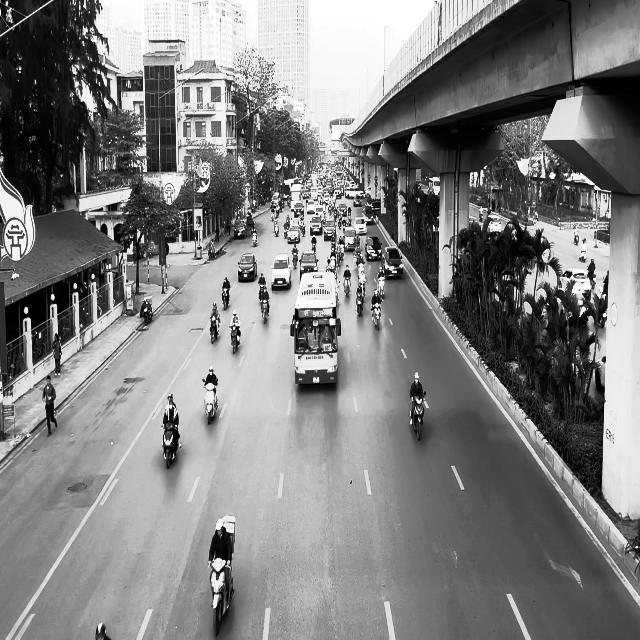bus: (290, 270, 341, 386)
car: (559, 268, 593, 300), (270, 253, 292, 290), (381, 246, 403, 278), (237, 253, 257, 282), (299, 250, 318, 280), (365, 235, 382, 260), (486, 216, 502, 237)
motorbike: (208, 557, 234, 635), (161, 422, 181, 468), (409, 390, 426, 440), (202, 378, 218, 424), (209, 314, 220, 344), (230, 323, 240, 354), (260, 293, 270, 323), (371, 301, 381, 330), (142, 298, 152, 324), (355, 289, 364, 317), (343, 273, 351, 298), (222, 287, 230, 310)
